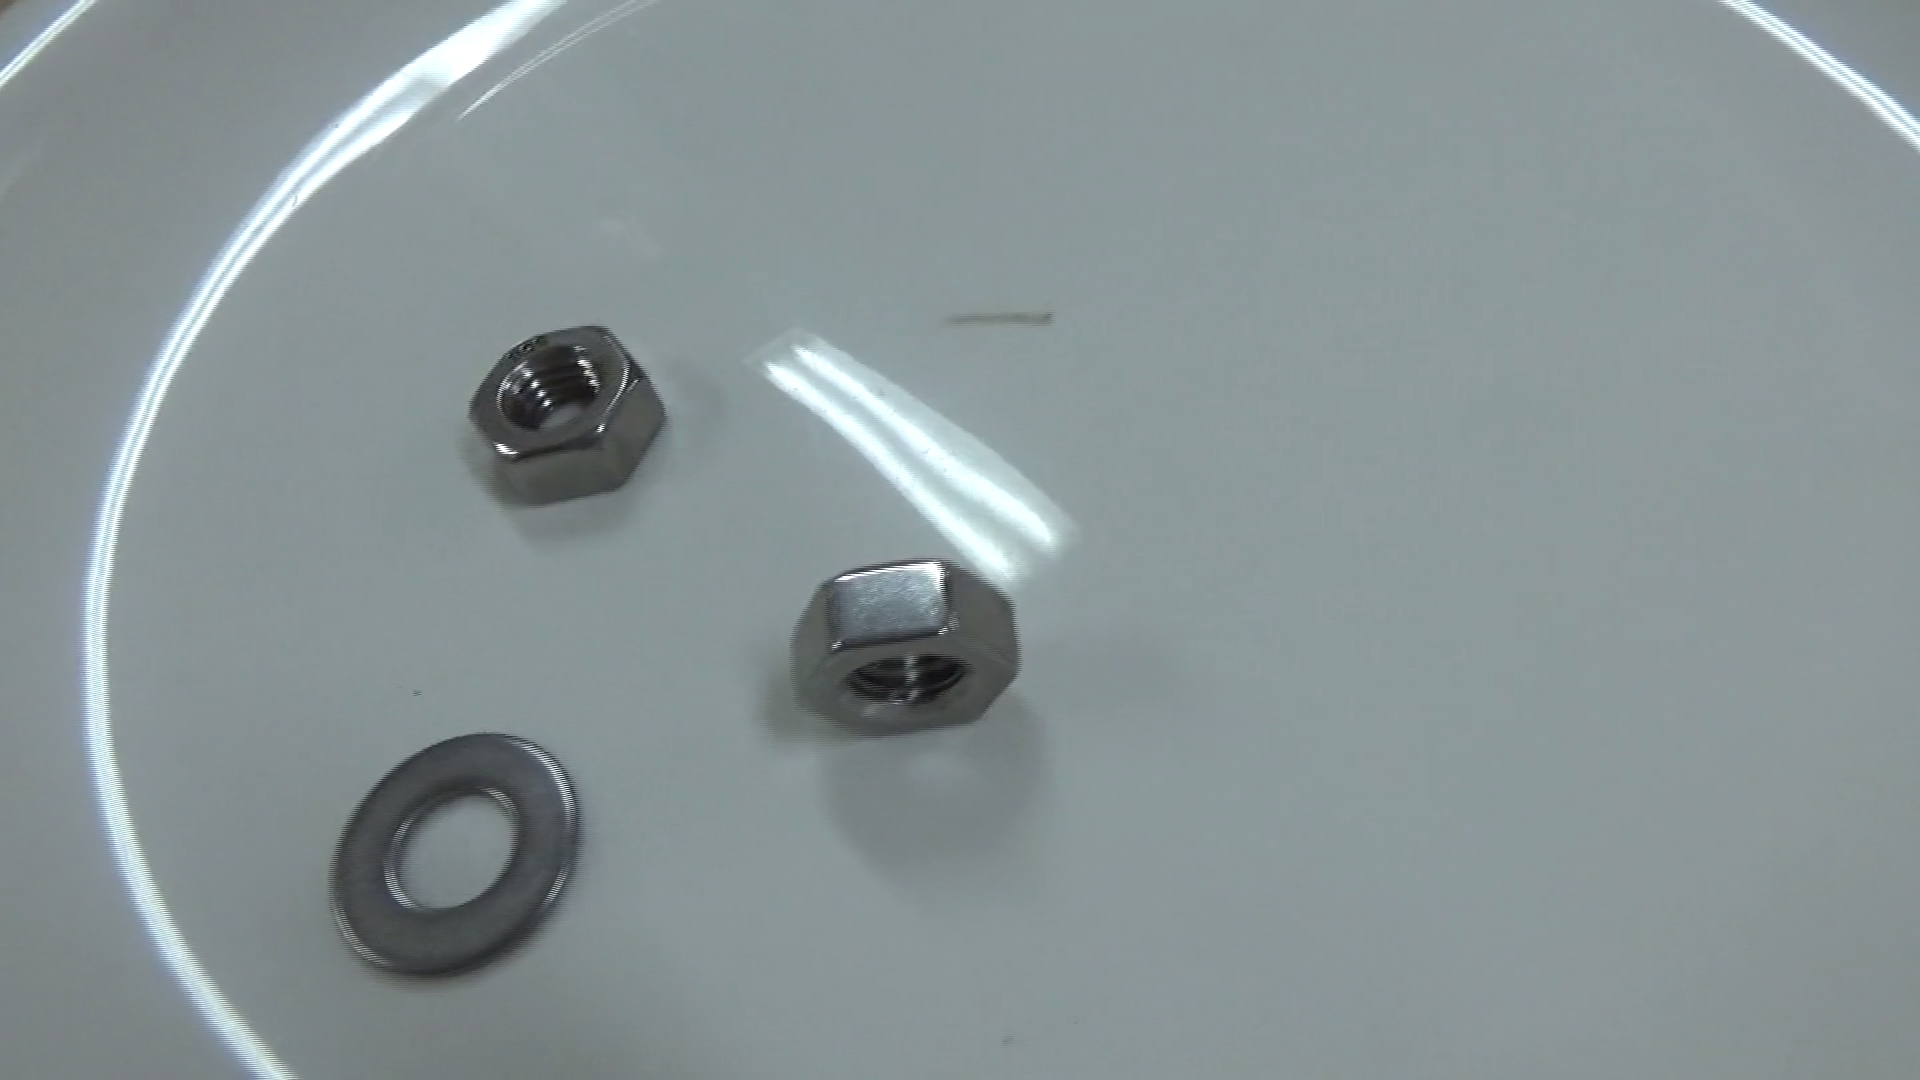nut: (770, 549, 1044, 752), (455, 307, 678, 509)
washer: (307, 712, 597, 993)
